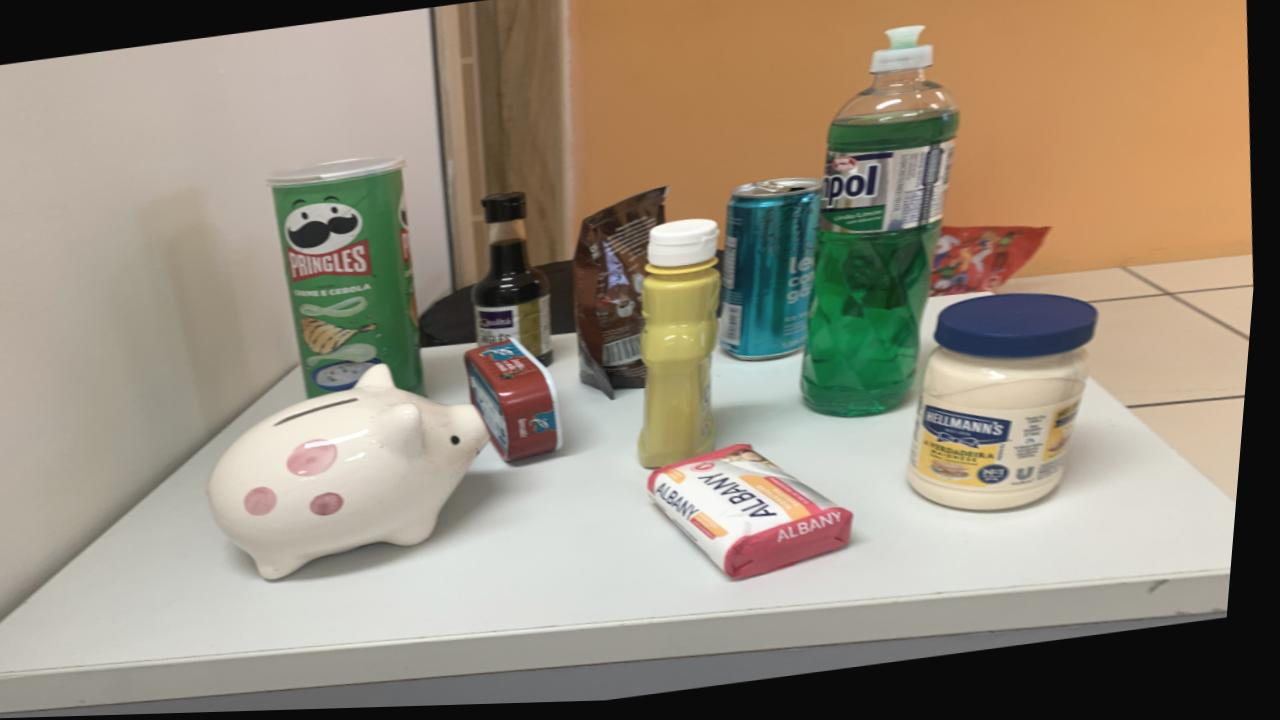Coffee-Pantry_Items: (578, 191, 671, 399)
Detergent-Cleanup_Items: (811, 30, 963, 420)
English_Sauce-Pantry_Items: (476, 194, 560, 368)
Mayonnaise-Pantry_Items: (916, 299, 1104, 516)
Mustard-Pantry_Items: (646, 222, 726, 472)
Pig_Safe-Miscellaneous: (215, 366, 498, 581)
Pringles-Snacks: (270, 158, 430, 398)
Soap-Cleanup_Items: (656, 448, 863, 583)
Tea-Drinks: (725, 182, 827, 365)
Tuna_Can-Pantry_Items: (471, 342, 571, 465)
